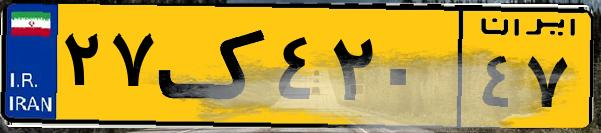0: (385, 28, 445, 110)
2: (330, 28, 385, 110), (57, 26, 110, 100)
4: (270, 28, 330, 110), (475, 38, 525, 113)
7: (525, 38, 570, 115), (110, 28, 158, 98)
ک: (158, 12, 270, 120)
